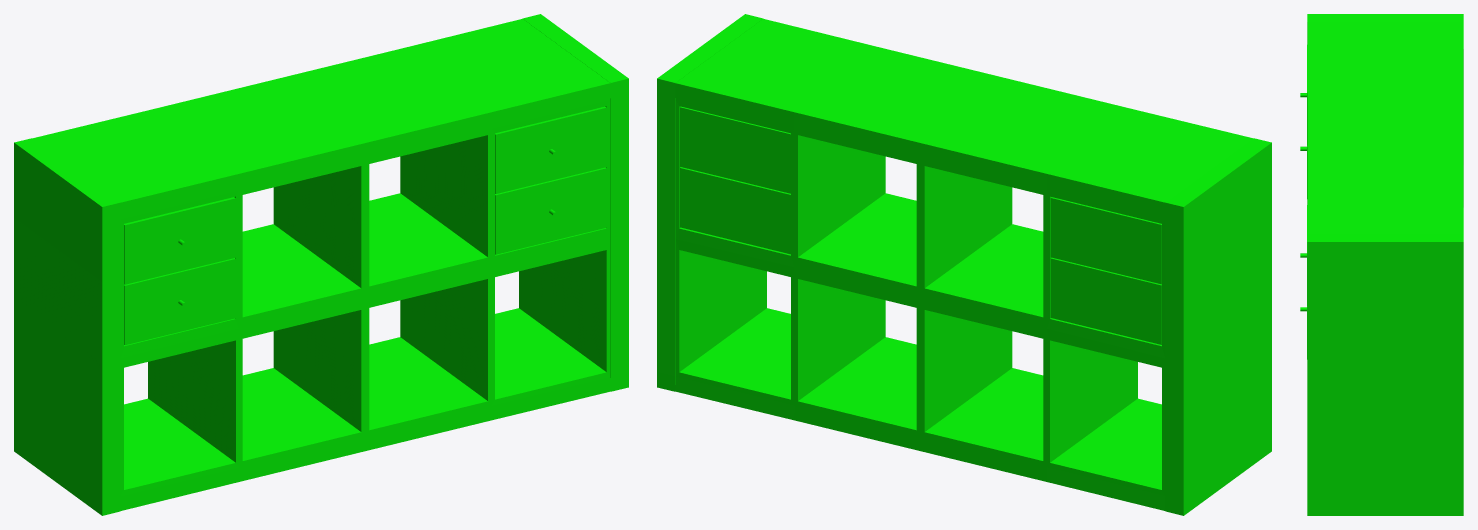
Rendered from commode.FBX.
The picture shows the model from 3 angles, left to right: view 1: azimuth 30°, elevation 25°; view 2: azimuth 150°, elevation 25°; view 3: azimuth 270°, elevation 25°; orthographic projection. The views are drawn at different scales.
Visible parts, largest first — view 1: commode, tiroir 1, tiroir 3, tiroir 4, tiroir 2; view 2: commode, tiroir 1, tiroir 2, tiroir 4, tiroir 3; view 3: commode.
Part boxes in pixels (box(x1,y1,x2,y2)): commode: box(14, 14, 628, 515); tiroir 1: box(124, 197, 235, 284); tiroir 3: box(495, 106, 606, 193); tiroir 4: box(495, 167, 606, 254); tiroir 2: box(124, 258, 235, 345); commode: box(657, 14, 1271, 515); tiroir 1: box(1050, 197, 1161, 284); tiroir 2: box(1050, 257, 1161, 344); tiroir 4: box(680, 167, 790, 254); tiroir 3: box(680, 106, 790, 193); commode: box(1307, 14, 1463, 515).
Size of the model in its own units: 54.95 by 30.8 by 16.67.
